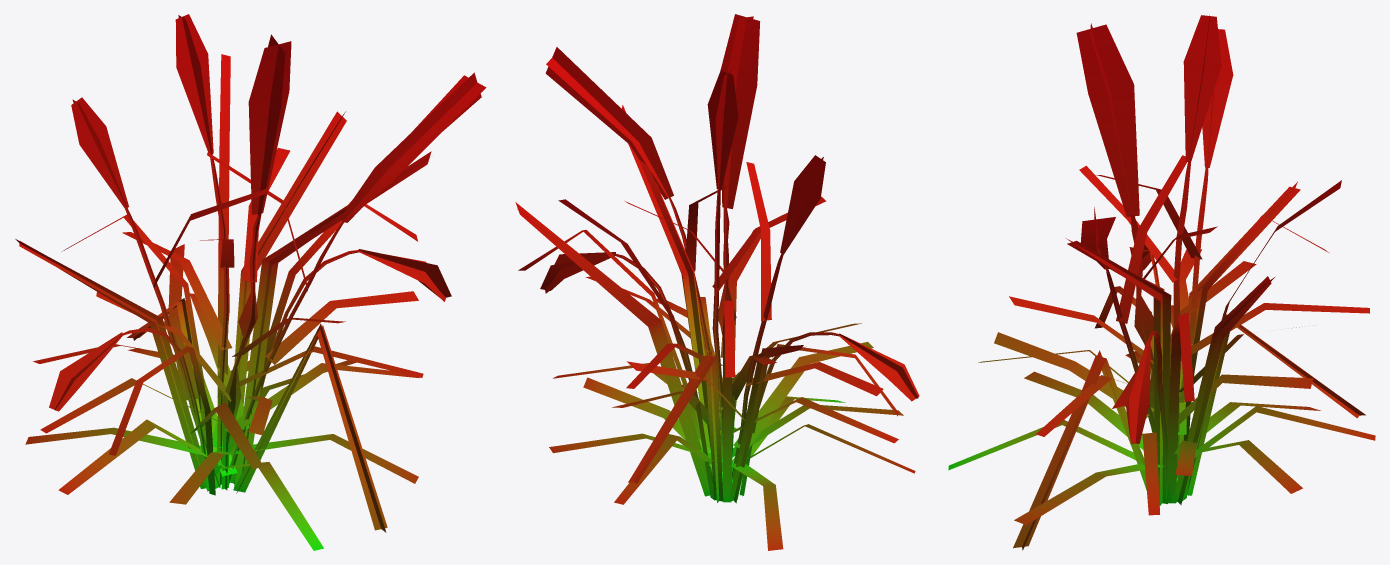
Rendered from Basket Grass_LOD3_Var7_slfpffjr.fbx.
3 renders of one model, left to right at view 1: azimuth 30°, elevation 25°; view 2: azimuth 150°, elevation 25°; view 3: azimuth 270°, elevation 25°, orthographic. The views are drawn at different scales.
Visible parts, largest first — view 1: _4498_Var7_LOD3; view 2: _4498_Var7_LOD3; view 3: _4498_Var7_LOD3.
Part boxes in pixels (x1,y1,x2,y2): _4498_Var7_LOD3: [15, 14, 486, 550]; _4498_Var7_LOD3: [515, 14, 919, 550]; _4498_Var7_LOD3: [948, 15, 1375, 550].
Size of the model in its own units: 42 by 46.94 by 37.12.
